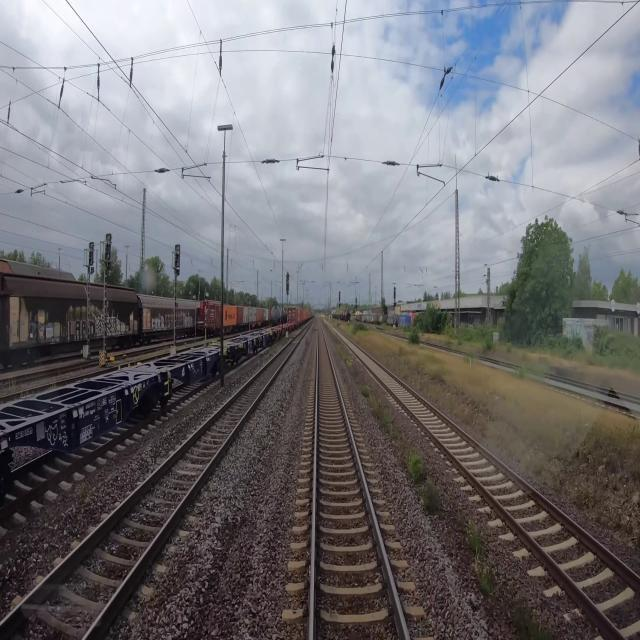Plant: (342, 329, 639, 536), (457, 512, 503, 606), (504, 587, 563, 639), (356, 377, 400, 435), (415, 467, 447, 521), (398, 439, 429, 487), (332, 335, 362, 378)
